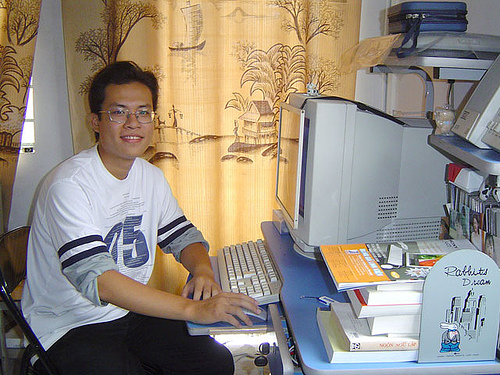without_mask: (83, 72, 162, 157)
